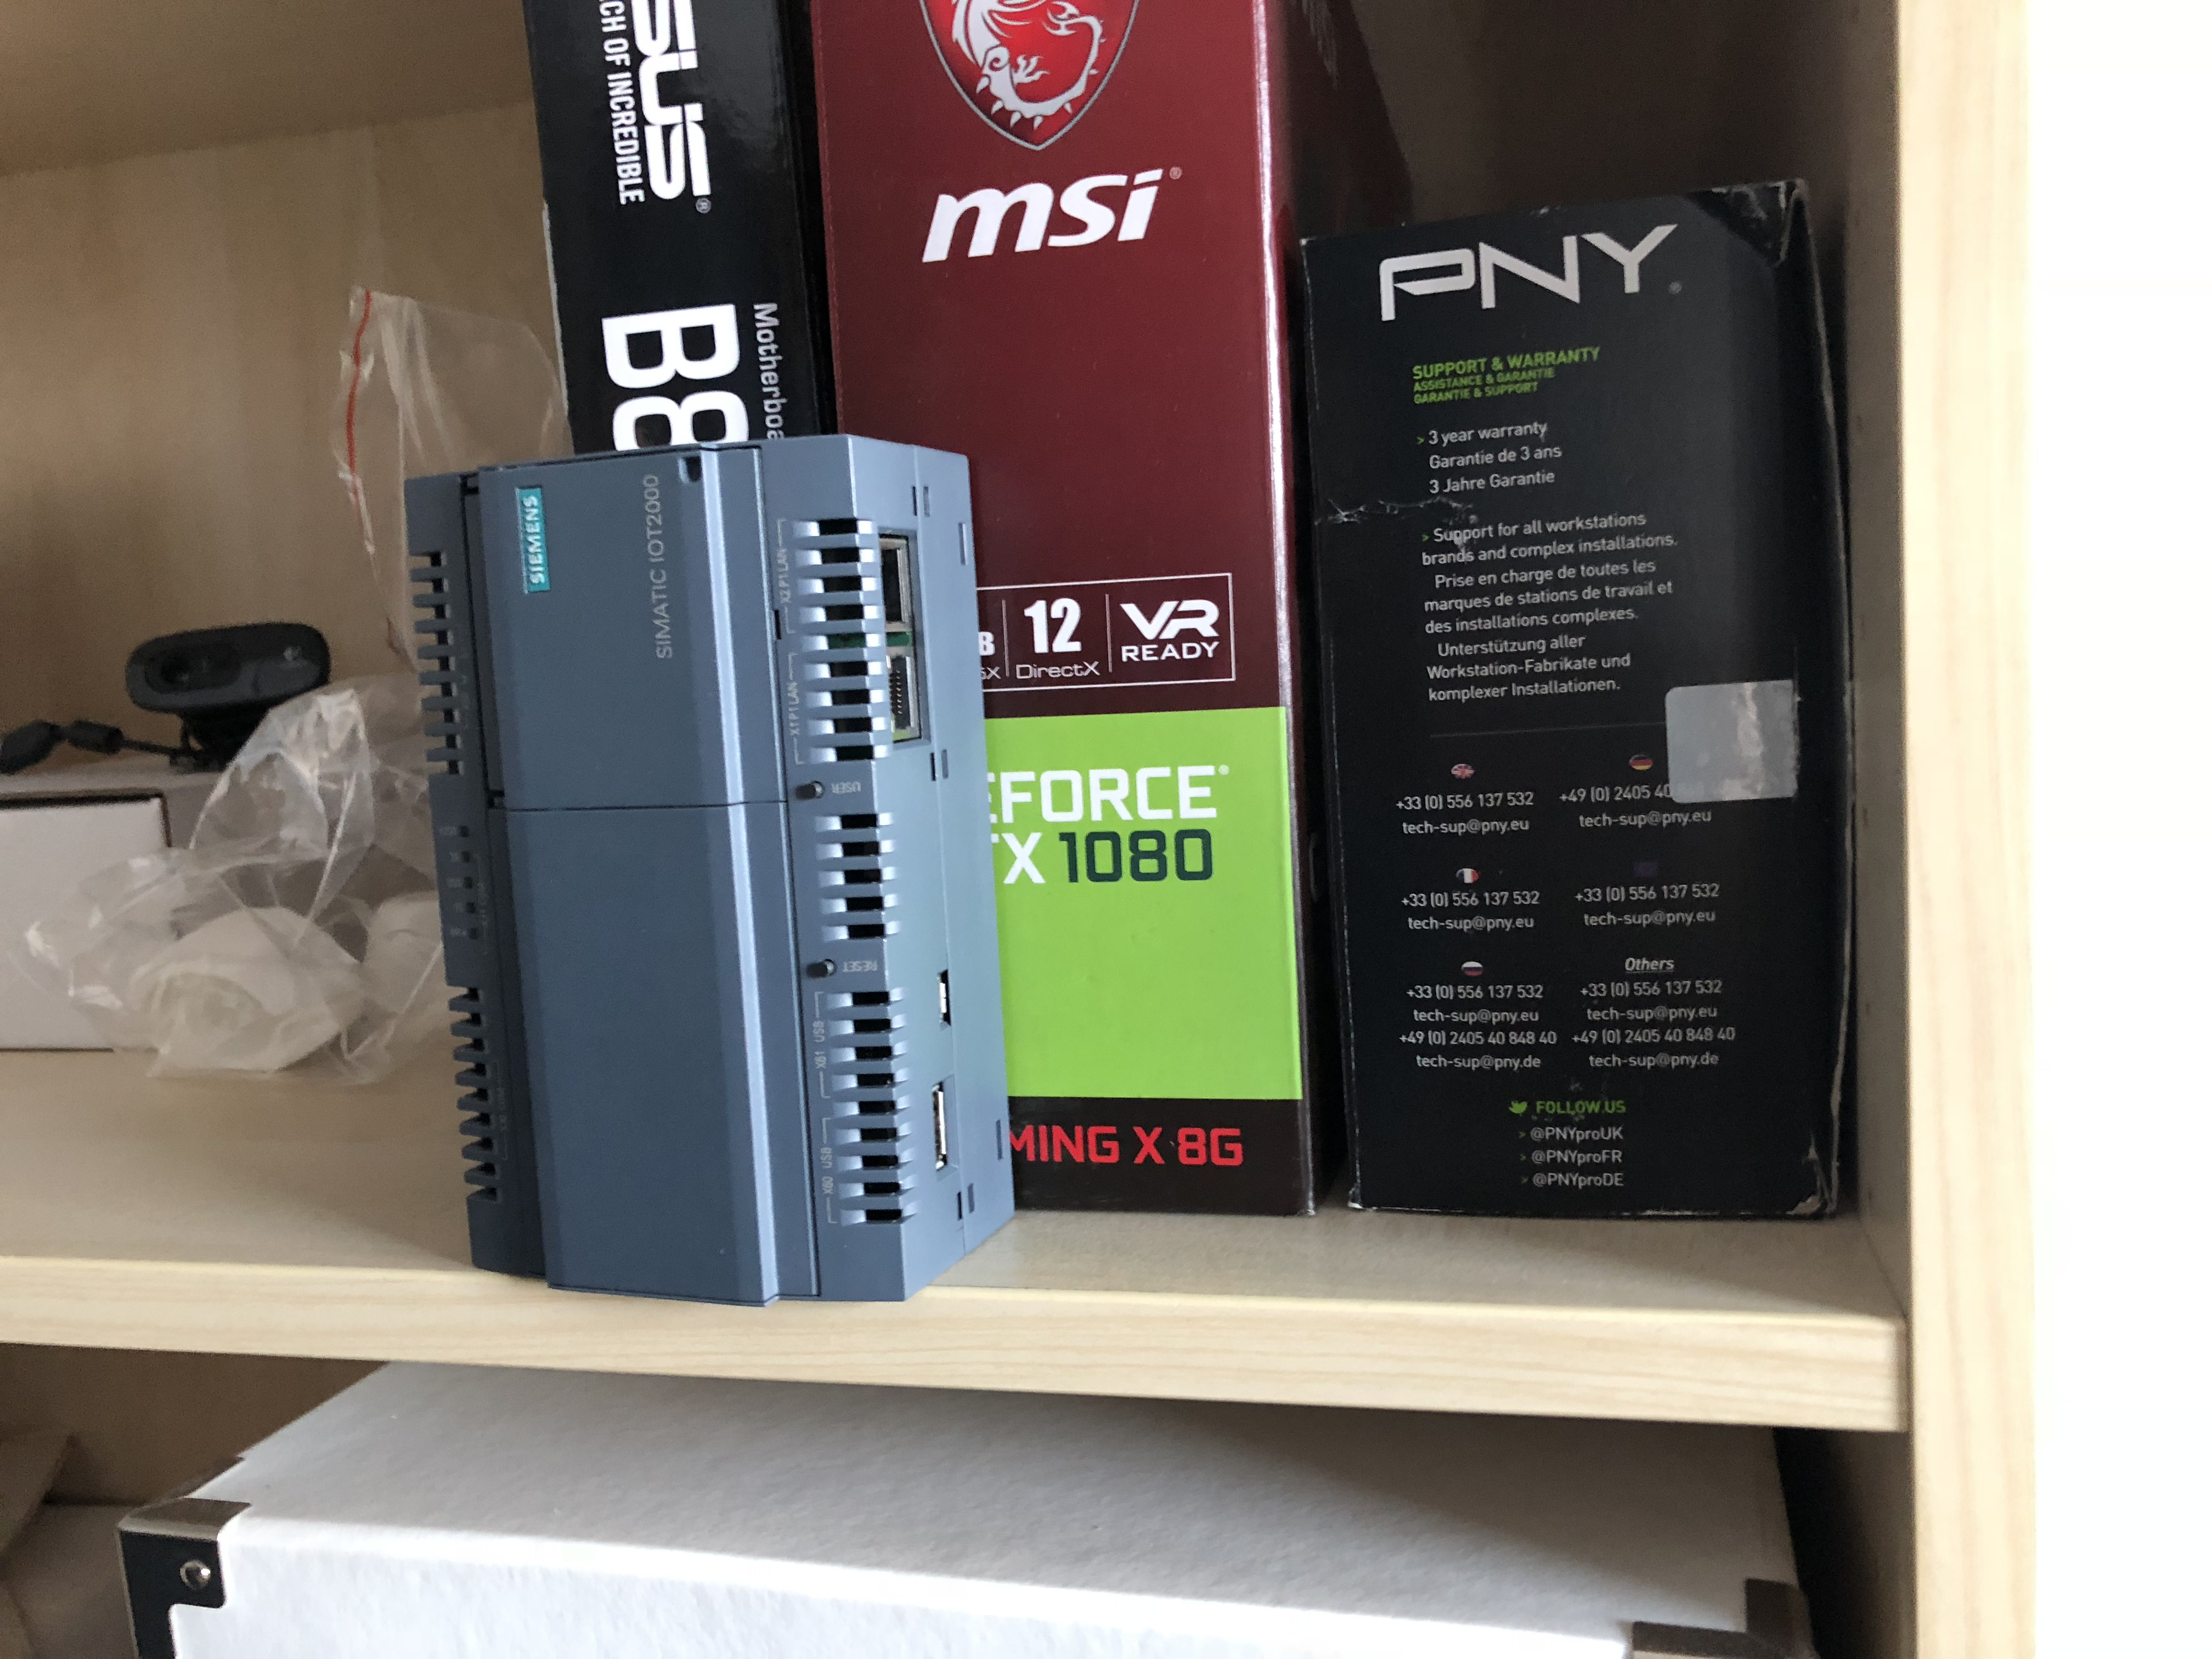device: (404, 434, 1017, 1309)
